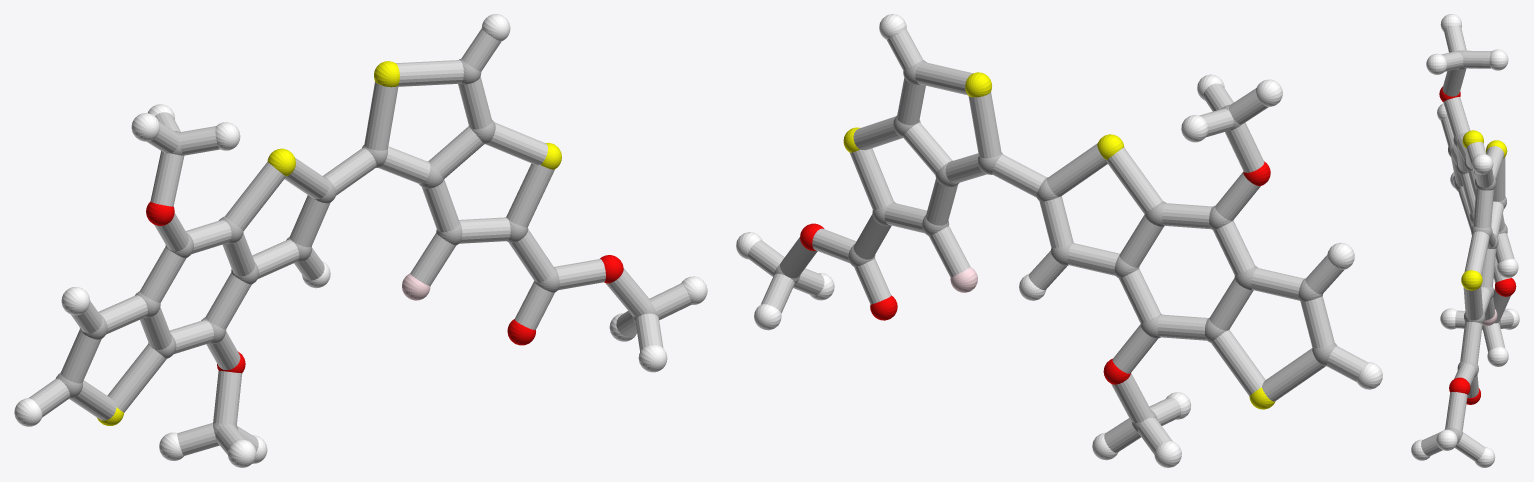
The model's file is color.glb.
3 views of the same model, side by side, from view 1: azimuth 30°, elevation 25°; view 2: azimuth 150°, elevation 25°; view 3: azimuth 270°, elevation 25° (orthographic). The views are drawn at different scales.
Parts seen in each view (by area): view 1: grp15205, grp8689, grp1, grp7241, grp13395; view 2: grp15205, grp8689, grp1, grp13395, grp7241; view 3: grp15205, grp8689, grp1, grp13395, grp7241.
Boxes of the visible parts, left/top/right/bottom form: grp15205: left=28, top=28, right=691, bottom=455; grp8689: left=14, top=14, right=707, bottom=467; grp1: left=56, top=58, right=657, bottom=435; grp7241: left=97, top=61, right=561, bottom=425; grp13395: left=146, top=201, right=623, bottom=373; grp15205: left=747, top=29, right=1367, bottom=454; grp8689: left=736, top=14, right=1382, bottom=467; grp1: left=774, top=60, right=1337, bottom=431; grp13395: left=800, top=161, right=1270, bottom=384; grp7241: left=843, top=72, right=1275, bottom=409; grp15205: left=1421, top=25, right=1514, bottom=461; grp8689: left=1411, top=14, right=1519, bottom=467; grp1: left=1444, top=50, right=1507, bottom=439; grp13395: left=1439, top=86, right=1516, bottom=404; grp7241: left=1461, top=130, right=1507, bottom=290.
Bounding box in the file's own units: 16.38 × 9.33 × 3.05.
